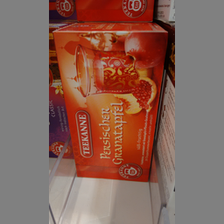tea: (53, 22, 169, 182)
